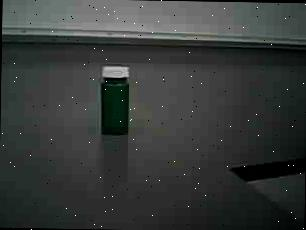Bottle C: (88, 58, 146, 140)
